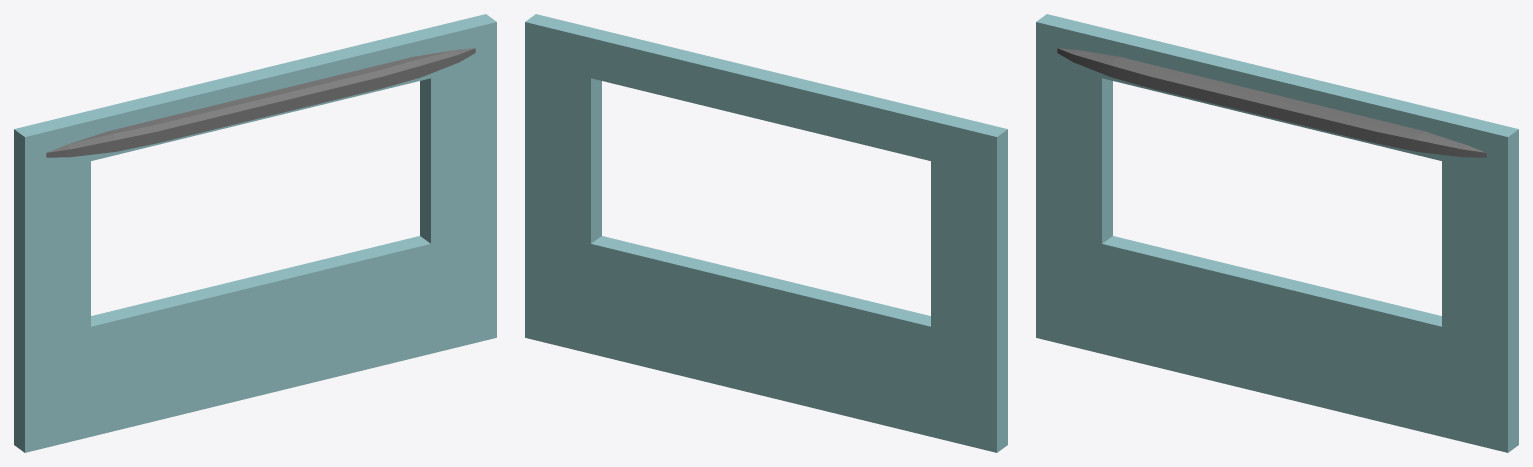
The model's file is Itr_Oven_Door_06.FBX.
3 views of the same model, side by side, from view 1: azimuth 30°, elevation 25°; view 2: azimuth 150°, elevation 25°; view 3: azimuth 330°, elevation 25° (orthographic).
Visible parts, largest first — view 1: Itr_Oven_Door_06; view 2: Itr_Oven_Door_06; view 3: Itr_Oven_Door_06.
Part boxes in pixels (x1,y1,x2,y2): Itr_Oven_Door_06: (14,14,496,452); Itr_Oven_Door_06: (525,14,1007,452); Itr_Oven_Door_06: (1036,14,1518,452).
Size of the model in its own units: 45.15 by 28.87 by 3.37.
